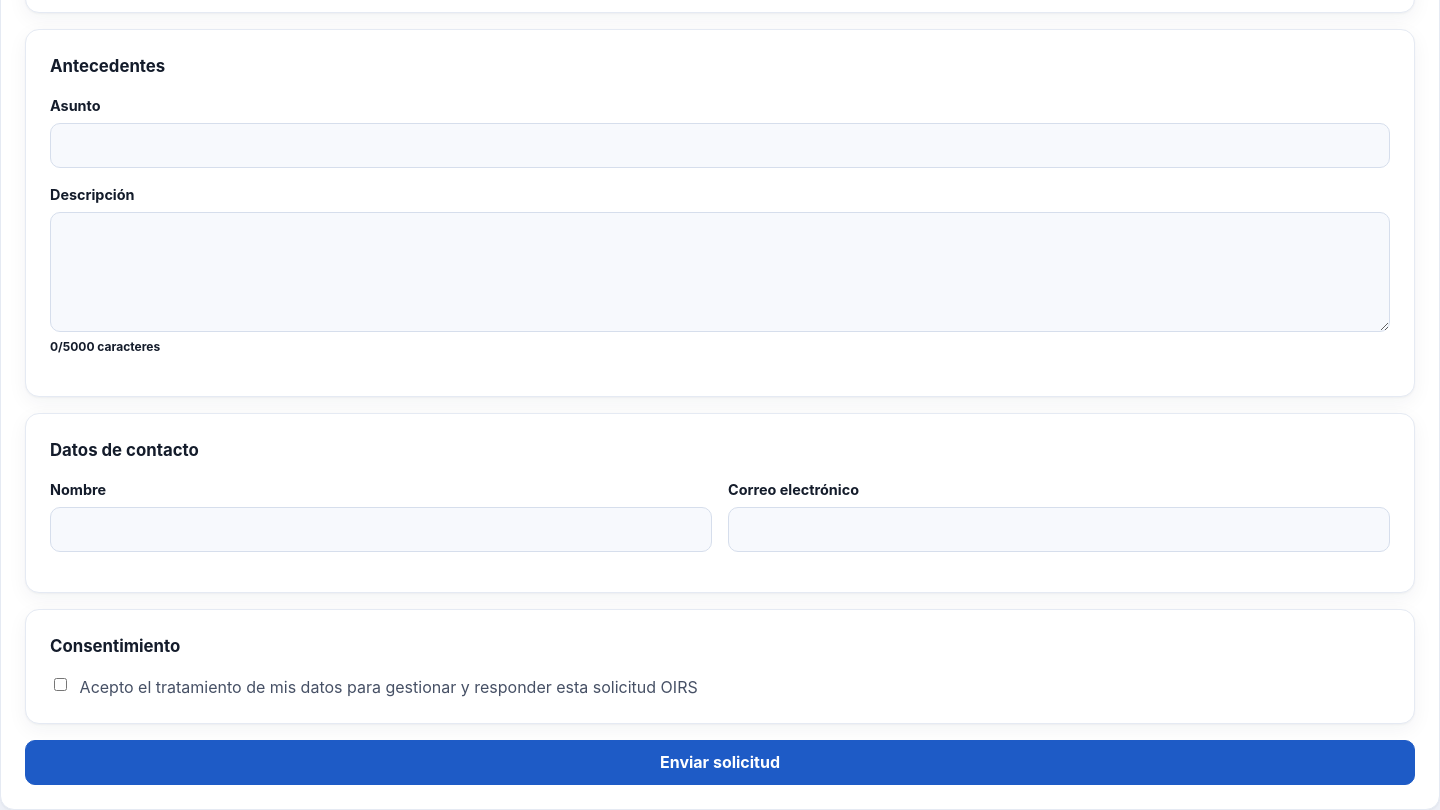
OirsPage - public › valida campos requeridos
The width and height of the screenshot is (1440, 810).
(page scrolled)
Click the button "Enviar solicitud": point(720, 762) x1=25 y1=740 x2=1415 y2=785
(page scrolled)
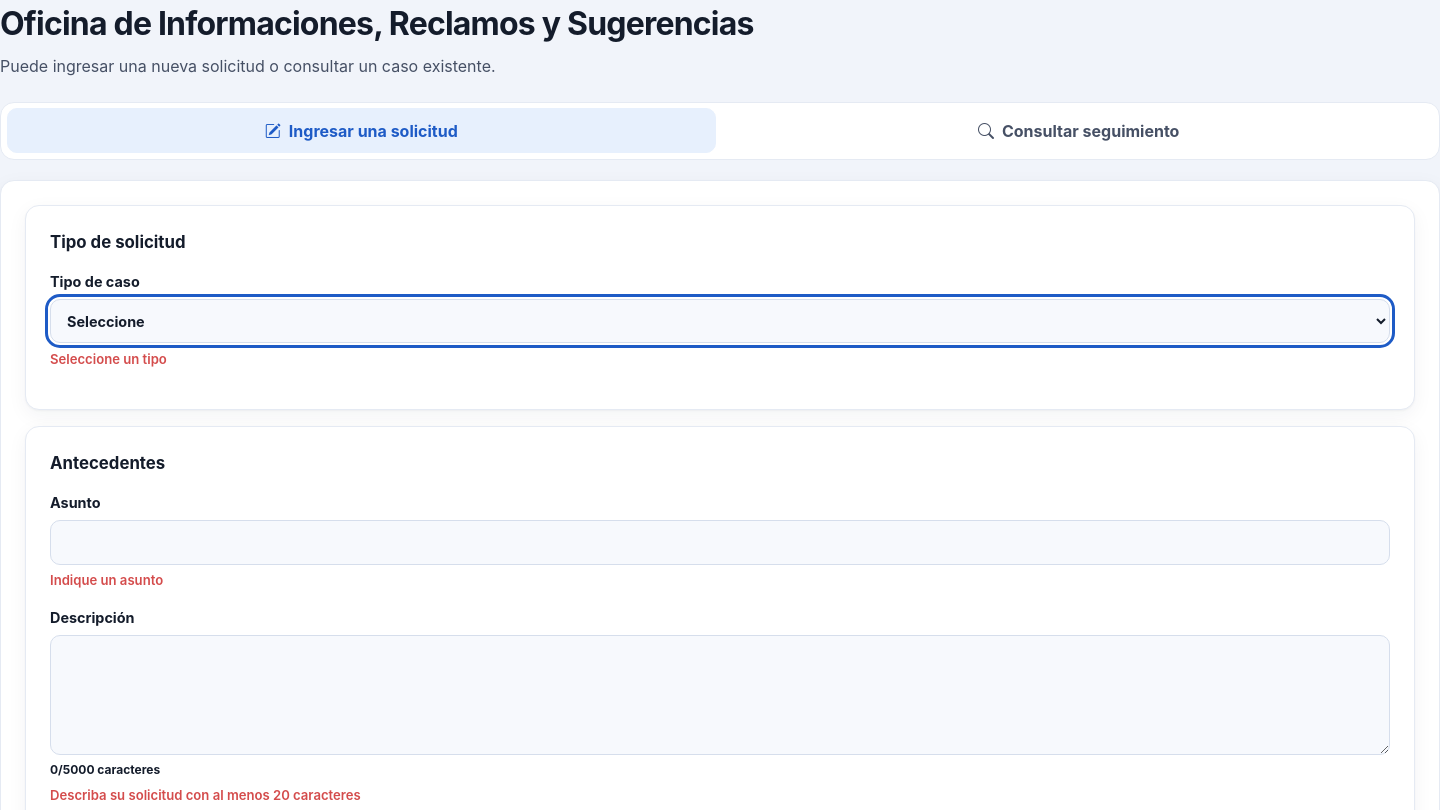
Check: the text "Seleccione un tipo" is shown, box x1=50 y1=350 x2=167 y2=366
